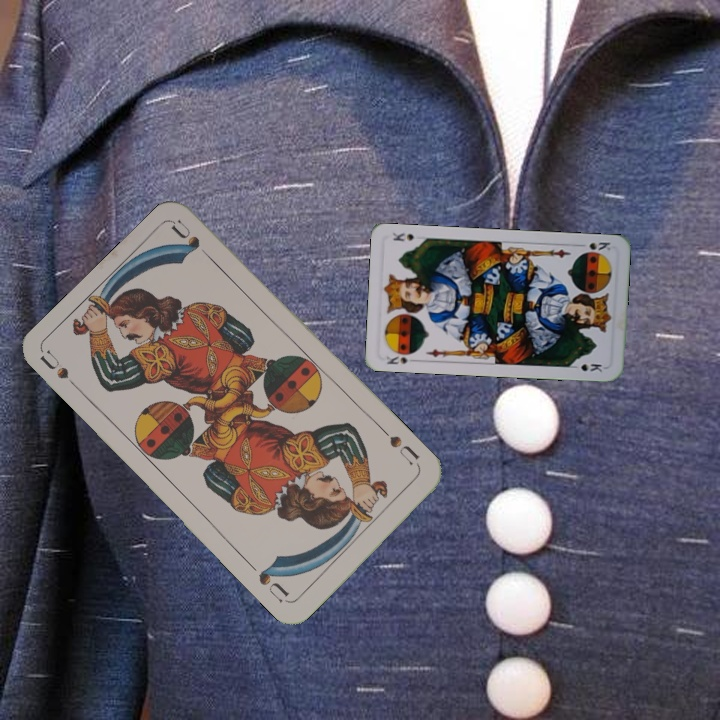SK: (382, 352, 420, 367), (585, 238, 613, 253)
SU: (37, 346, 86, 397), (385, 431, 423, 472)
